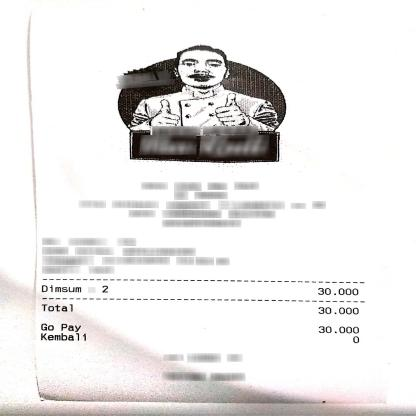receipts: (31, 6, 388, 399)
